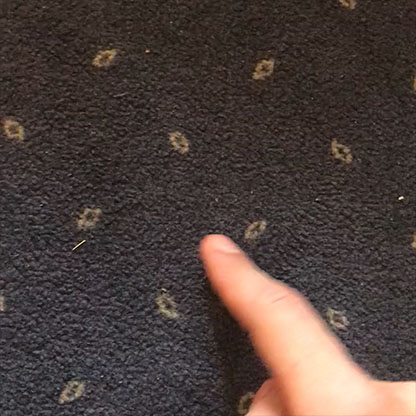fingertip: (191, 228, 257, 271)
